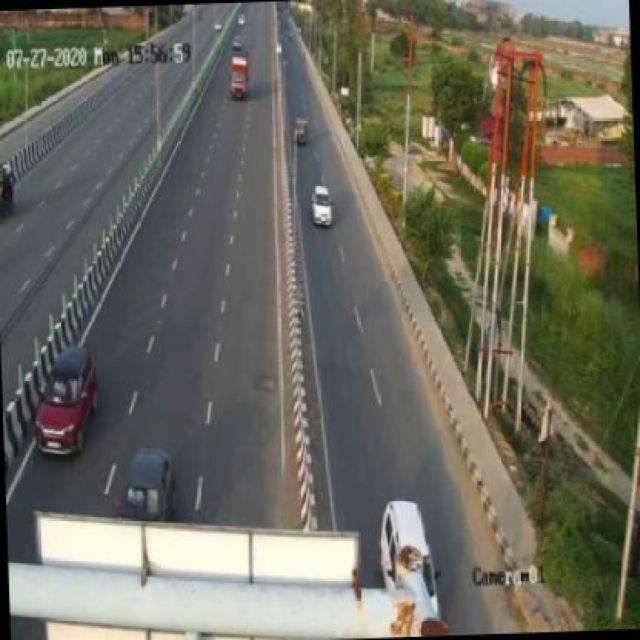car: (32, 345, 110, 460), (372, 494, 445, 581), (114, 443, 186, 519), (308, 180, 340, 231), (292, 117, 311, 146)
